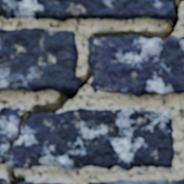brick: (90, 36, 183, 96), (0, 28, 78, 91), (0, 0, 174, 20), (89, 180, 183, 183)
broken_brick: (10, 106, 174, 170), (0, 106, 29, 164), (22, 181, 66, 183), (0, 177, 6, 183)
crack: (1, 0, 183, 183), (143, 1, 157, 17), (0, 73, 11, 82)
